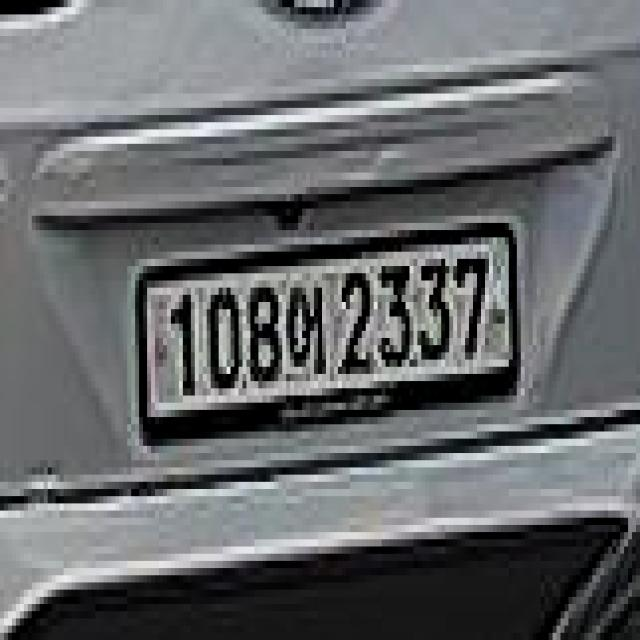illegal_plate: (132, 221, 524, 433)
